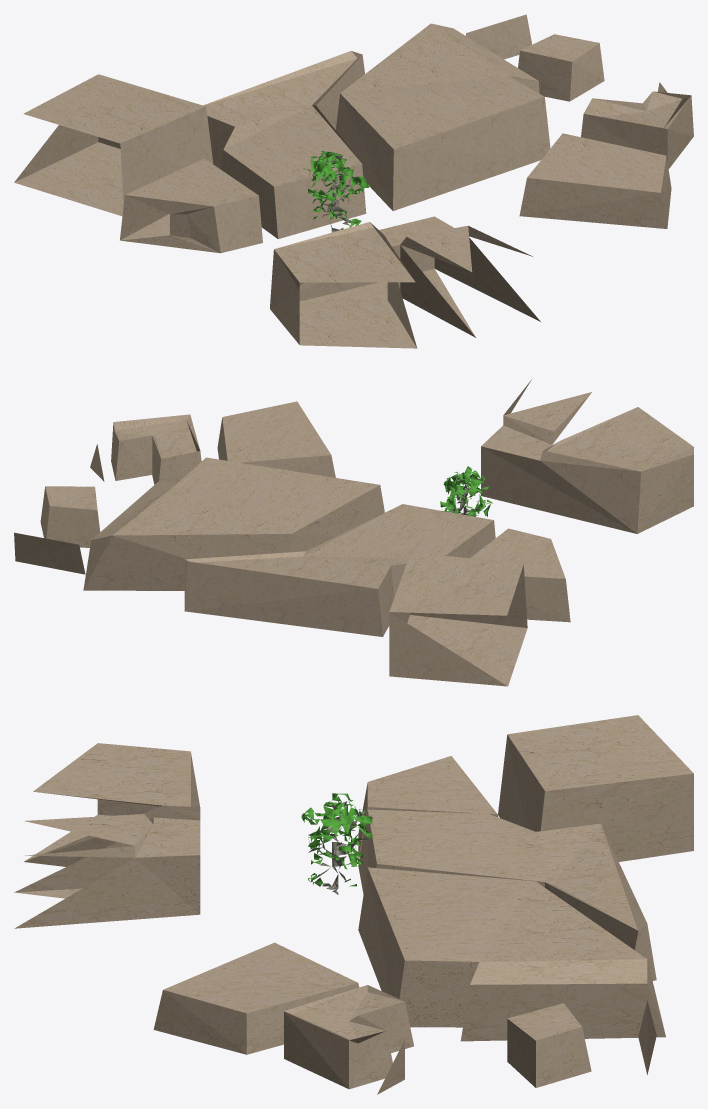
Rendered from tile_1_-1.gltf.
The picture shows the model from 3 angles, top to bottom: view 1: azimuth 30°, elevation 25°; view 2: azimuth 150°, elevation 25°; view 3: azimuth 270°, elevation 25°; orthographic projection. The views are drawn at different scales.
Visible parts, largest first — view 1: Plane.011@tile_1_-1, Bodhi Tree_Bodhi_front_2_Mat_0.044@tile_1_-1; view 2: Plane.011@tile_1_-1, Bodhi Tree_Bodhi_front_2_Mat_0.044@tile_1_-1; view 3: Plane.011@tile_1_-1, Bodhi Tree_Bodhi_front_2_Mat_0.044@tile_1_-1.
Part boxes in pixels (x1=…): Plane.011@tile_1_-1: x1=14, y1=14, x2=693, y2=348; Bodhi Tree_Bodhi_front_2_Mat_0.044@tile_1_-1: x1=303, y1=151, x2=370, y2=232; Plane.011@tile_1_-1: x1=14, y1=378, x2=693, y2=686; Bodhi Tree_Bodhi_front_2_Mat_0.044@tile_1_-1: x1=440, y1=466, x2=492, y2=516; Plane.011@tile_1_-1: x1=14, y1=715, x2=693, y2=1094; Bodhi Tree_Bodhi_front_2_Mat_0.044@tile_1_-1: x1=301, y1=793, x2=372, y2=894.
Size of the model in its own units: 71.27 by 10.64 by 65.78.
3 materials, 2 textured.
